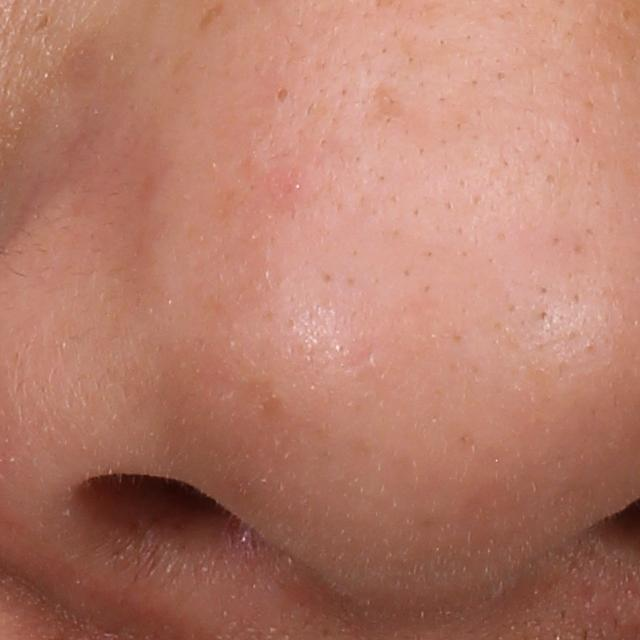comedo: (273, 80, 292, 108)
melasma: (196, 2, 226, 34)
